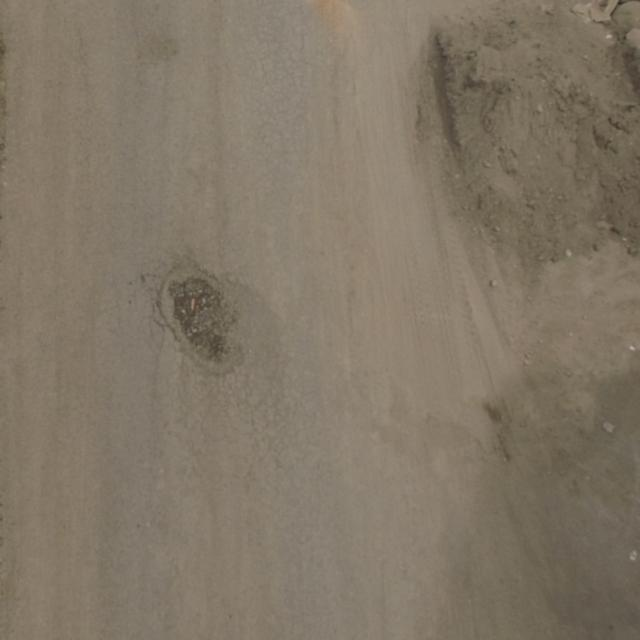BACHE: (166, 273, 244, 366)
PIEL DE COCODRILO: (150, 345, 335, 533), (236, 0, 309, 176)
